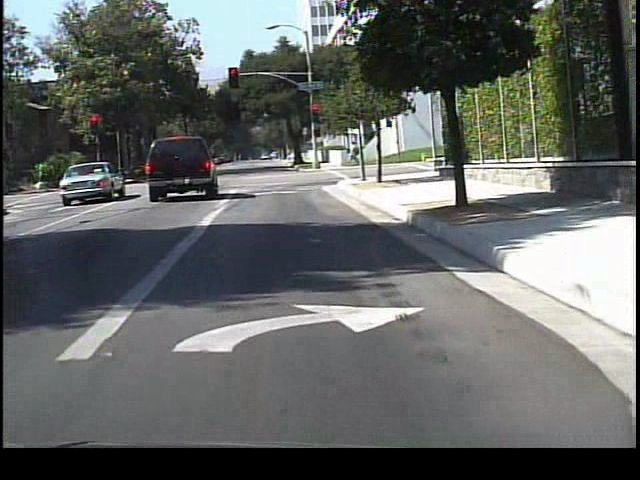person: (343, 141, 361, 172)
